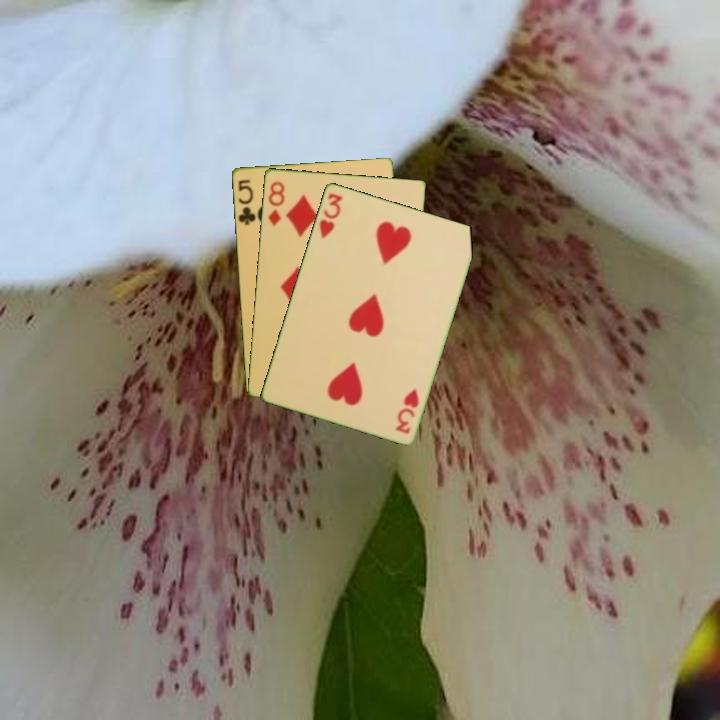3h: (315, 189, 346, 241), (392, 384, 422, 436)
5c: (234, 176, 260, 228)
8d: (264, 177, 287, 228)
